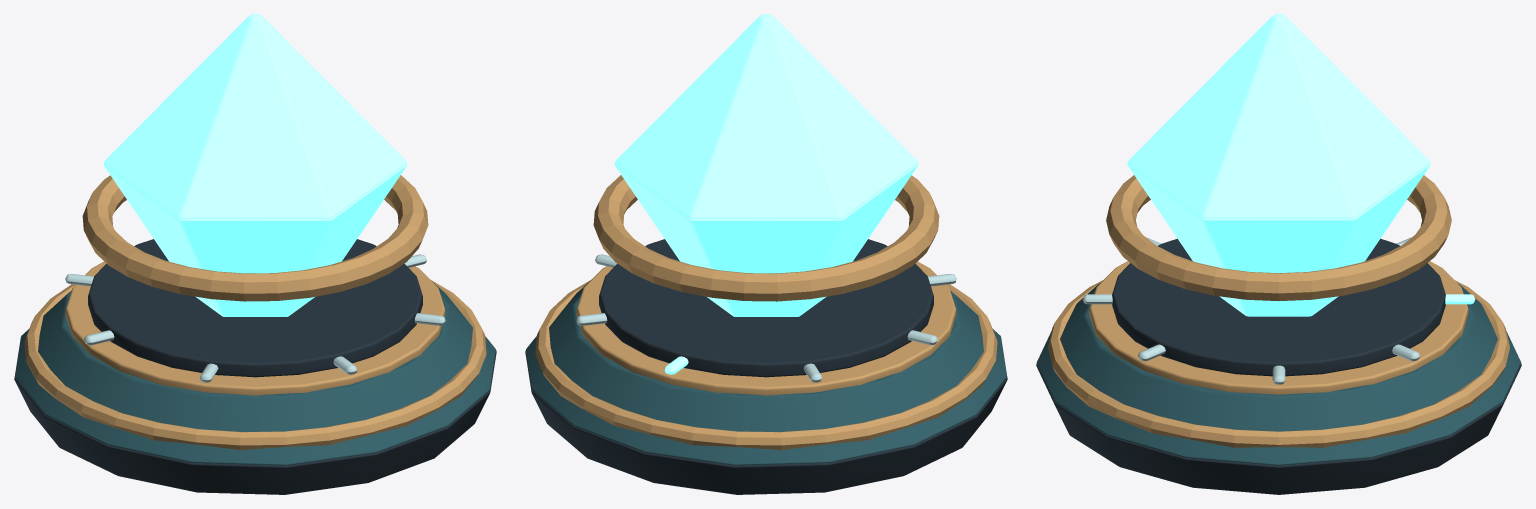
File: target.glb
The picture shows the model from 3 angles, left to right: view 1: azimuth 30°, elevation 25°; view 2: azimuth 150°, elevation 25°; view 3: azimuth 270°, elevation 25°; orthographic projection.
Parts seen in each view (by area): view 1: target; view 2: target; view 3: target.
Part boxes in pixels (<box>): target: <box>14,14,496,494</box>; target: <box>525,14,1007,494</box>; target: <box>1036,14,1521,494</box>.
Size of the model in its own units: 1.08 by 0.94 by 1.08.
